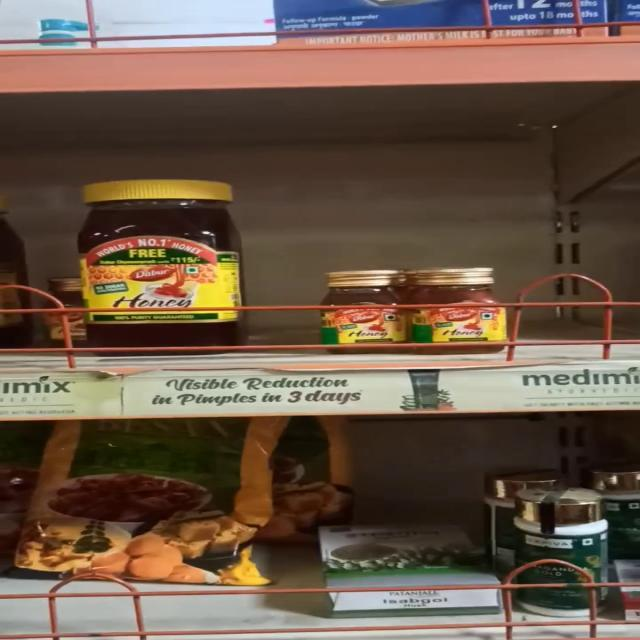Dabur Honey: (75, 183, 241, 346), (399, 269, 497, 356), (318, 268, 402, 350)
